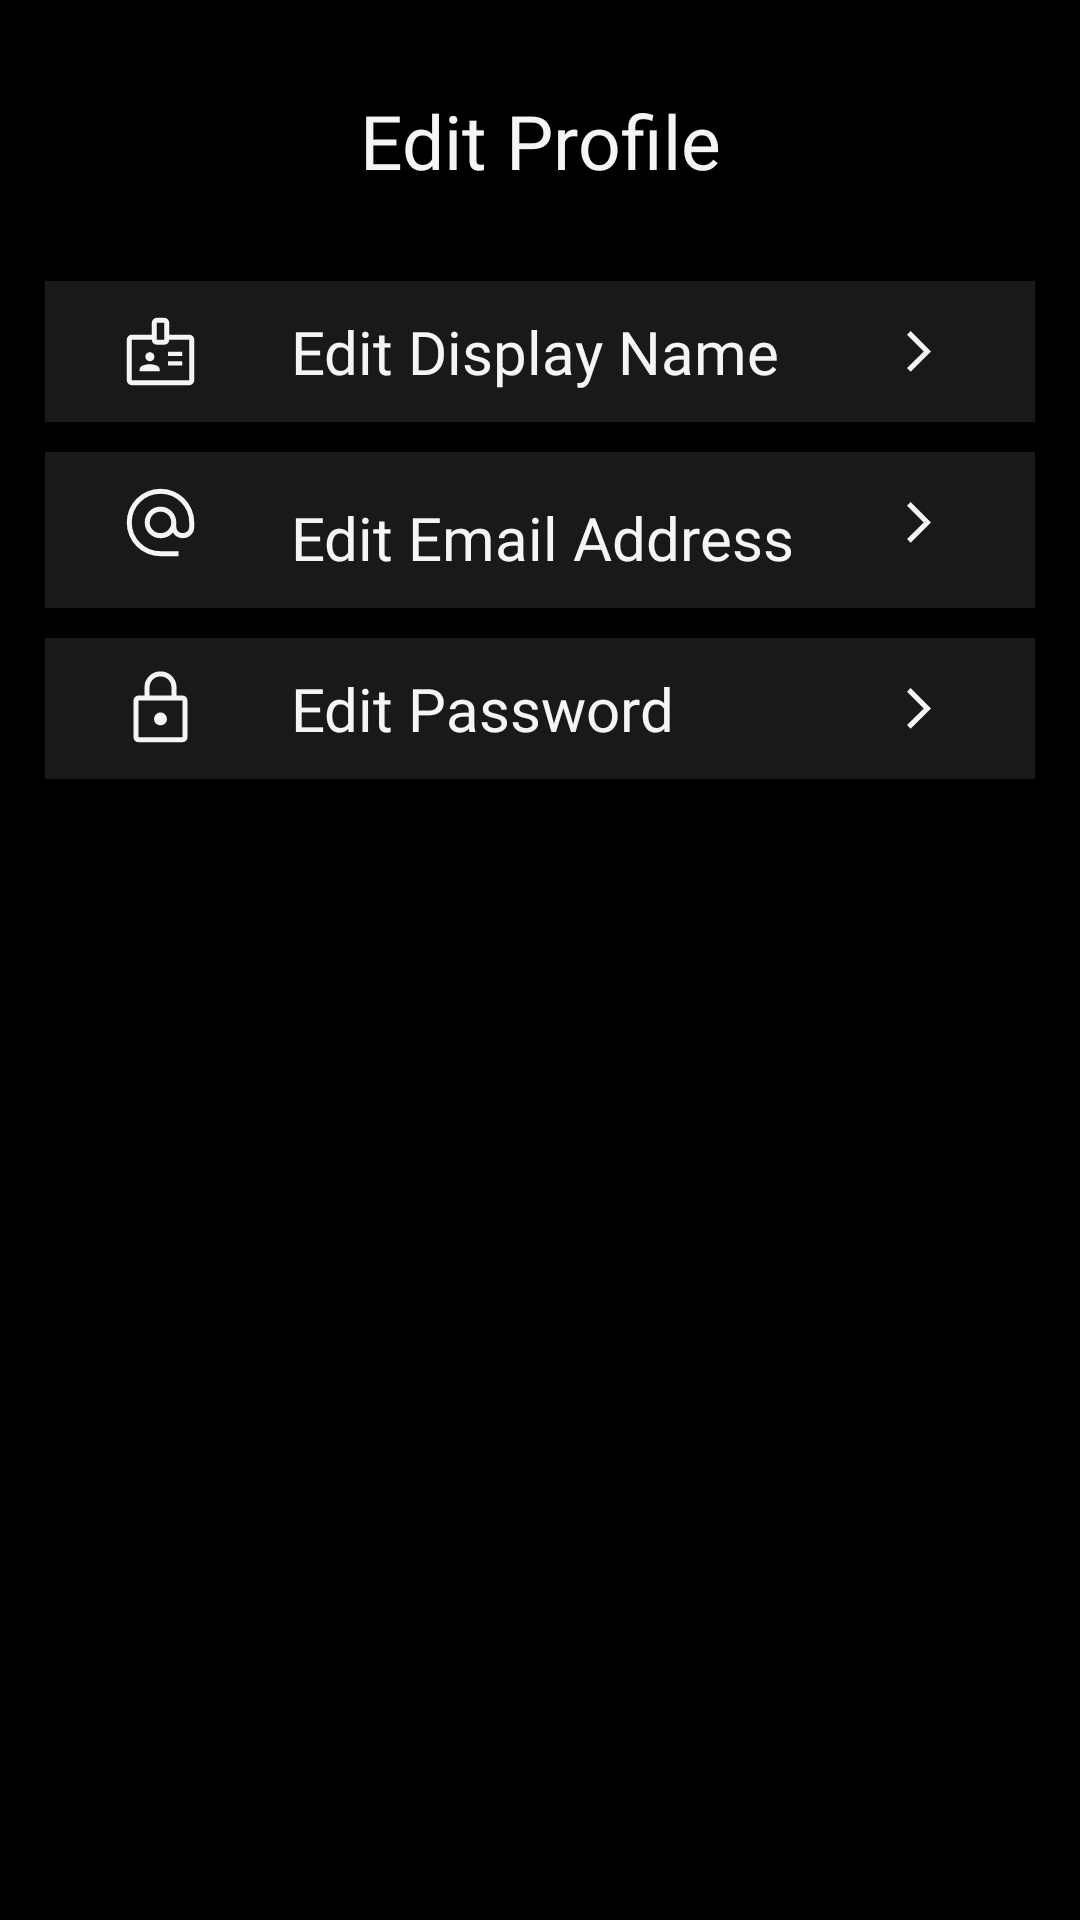

Icon click points for this 1080px×1920px phone screenshot, format point (x, y):
keyboard arrow right: point (919, 351), point (919, 522), point (919, 708)
name badge: point (160, 351)
